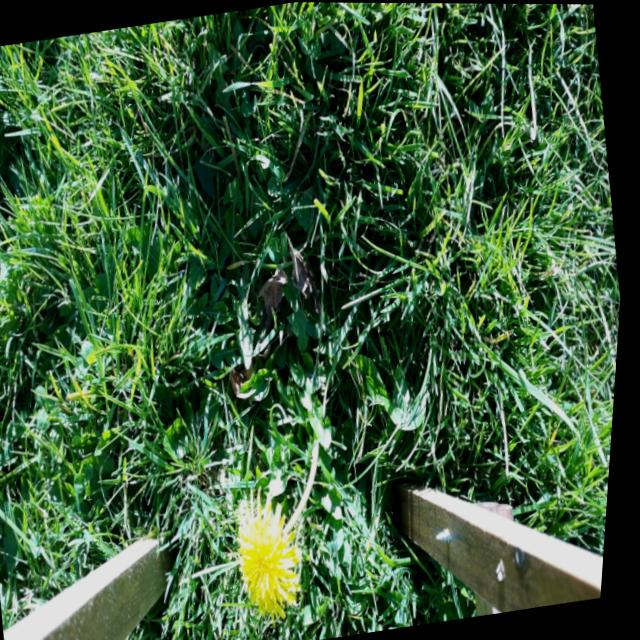base: (308, 421, 337, 466)
